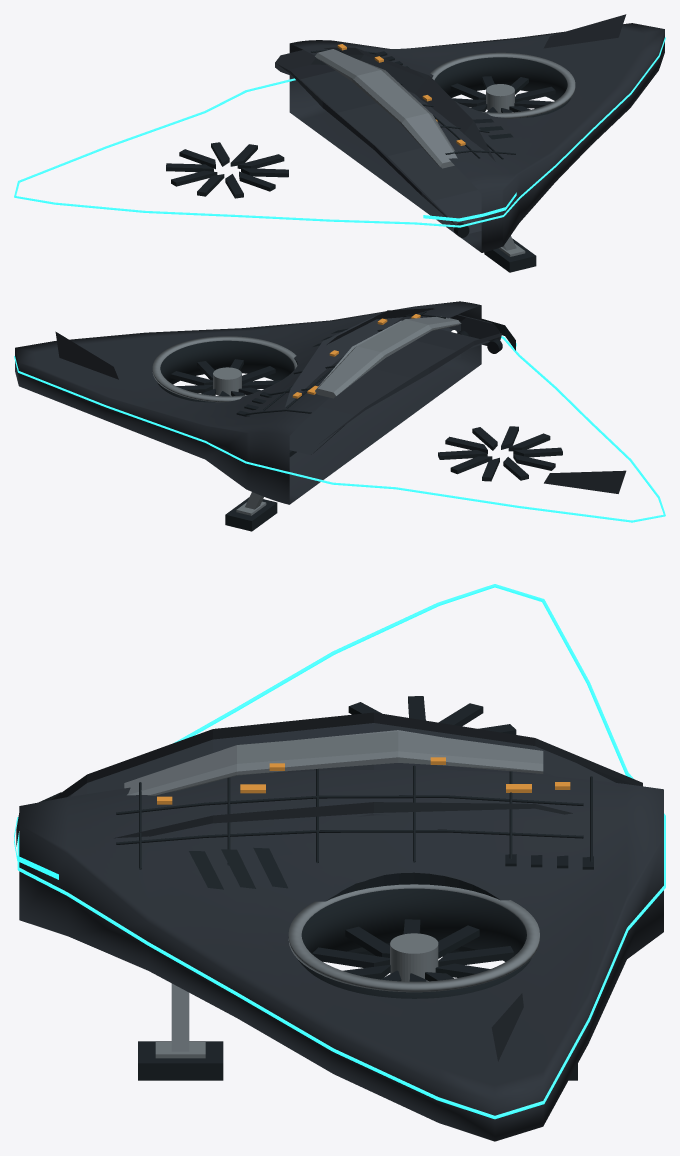
Rendered from scout.glb.
3 renders of one model, top to bottom at view 1: azimuth 30°, elevation 25°; view 2: azimuth 150°, elevation 25°; view 3: azimuth 270°, elevation 25°, orthographic. The views are drawn at different scales.
Visible parts, largest first — view 1: BlendedWing_StructuralShell, SculptedCentralArmor, SpineInset, DuctWall, ScannerTrack, MachinedDuctLip, WingtipFence.001, Gear_Foot, TurbineHub, RotorBlade_-1_06; view 2: BlendedWing_StructuralShell, SculptedCentralArmor, DuctWall, SpineInset, ScannerTrack, MachinedDuctLip, WingtipFence, WingtipFence.001, Gear_Foot.001, TurbineHub, RotorBlade_-1_04, RotorBlade_-1_09 (+4 smaller); view 3: BlendedWing_StructuralShell, SculptedCentralArmor, SpineInset, DuctWall, ScannerTrack, MachinedDuctLip, Gear_Foot, TurbineHub, SpineSeam, SpineSeam.001, Gear_Strut, RotorBlade_1_03 (+2 smaller).
Part boxes in pixels (<box>): BlendedWing_StructuralShell: <box>289,23,664,252</box>; SculptedCentralArmor: <box>275,47,495,233</box>; SpineInset: <box>315,49,457,168</box>; DuctWall: <box>434,57,570,117</box>; ScannerTrack: <box>14,37,665,227</box>; MachinedDuctLip: <box>430,52,575,118</box>; WingtipFence.001: <box>543,14,626,48</box>; Gear_Foot: <box>484,238,536,272</box>; TurbineHub: <box>486,84,514,112</box>; RotorBlade_-1_06: <box>241,168,288,177</box>; BlendedWing_StructuralShell: <box>15,301,481,504</box>; SculptedCentralArmor: <box>285,308,501,454</box>; DuctWall: <box>157,340,294,402</box>; SpineInset: <box>315,316,461,398</box>; ScannerTrack: <box>14,336,665,522</box>; MachinedDuctLip: <box>152,336,297,402</box>; WingtipFence: <box>544,470,626,493</box>; WingtipFence.001: <box>55,331,118,379</box>; Gear_Foot.001: <box>225,497,277,531</box>; TurbineHub: <box>213,367,241,396</box>; RotorBlade_-1_04: <box>438,450,487,459</box>; RotorBlade_-1_09: <box>513,447,562,457</box>; BlendedWing_StructuralShell: <box>19,769,663,1141</box>; SculptedCentralArmor: <box>51,712,642,838</box>; SpineInset: <box>124,730,543,795</box>; DuctWall: <box>298,888,531,998</box>; ScannerTrack: <box>17,584,665,1119</box>; MachinedDuctLip: <box>288,884,539,992</box>; Gear_Foot: <box>138,1041,223,1080</box>; TurbineHub: <box>390,933,438,981</box>; SpineSeam: <box>116,795,583,814</box>; SpineSeam.001: <box>116,829,583,844</box>; Gear_Strut: <box>171,983,189,1051</box>; RotorBlade_1_03: <box>438,946,513,966</box>.
Bounding box in the file's own units: 8.46 × 1.97 × 4.37.
